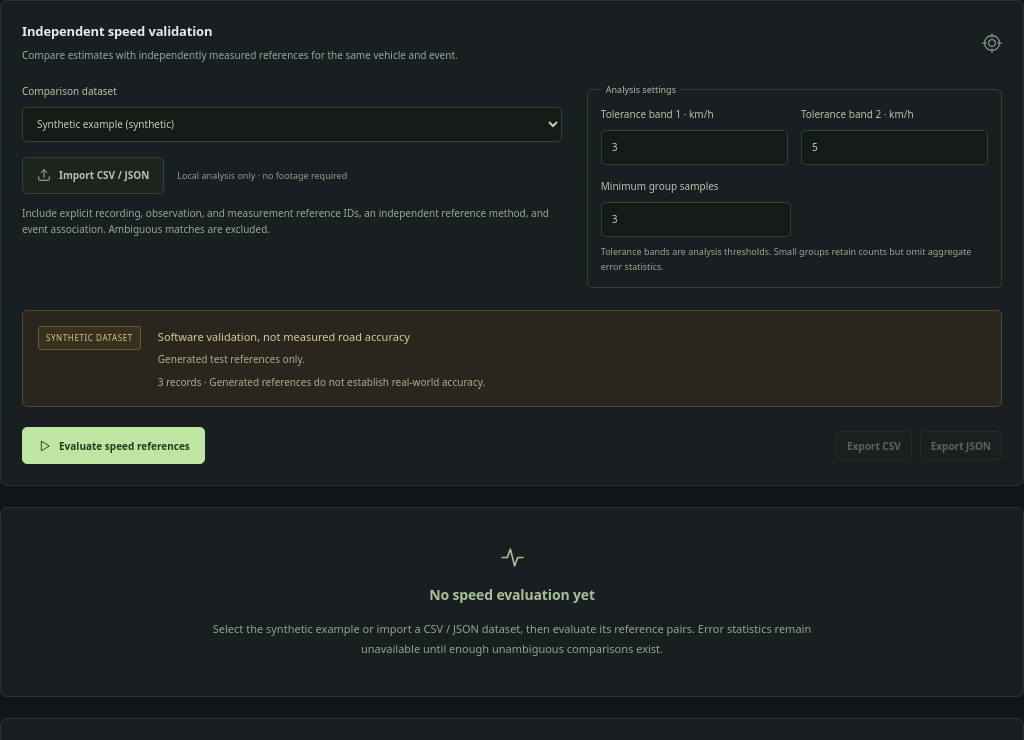
Test case: validation and benchmark workspace › evaluates explicit references and renders actual report counts, signed errors, and accessible charts
What coordinates should you click on to do the following:
click the button "Evaluate speed references"
I would click on:
 (113, 446)
Its box is x1=22 y1=427 x2=205 y2=464.
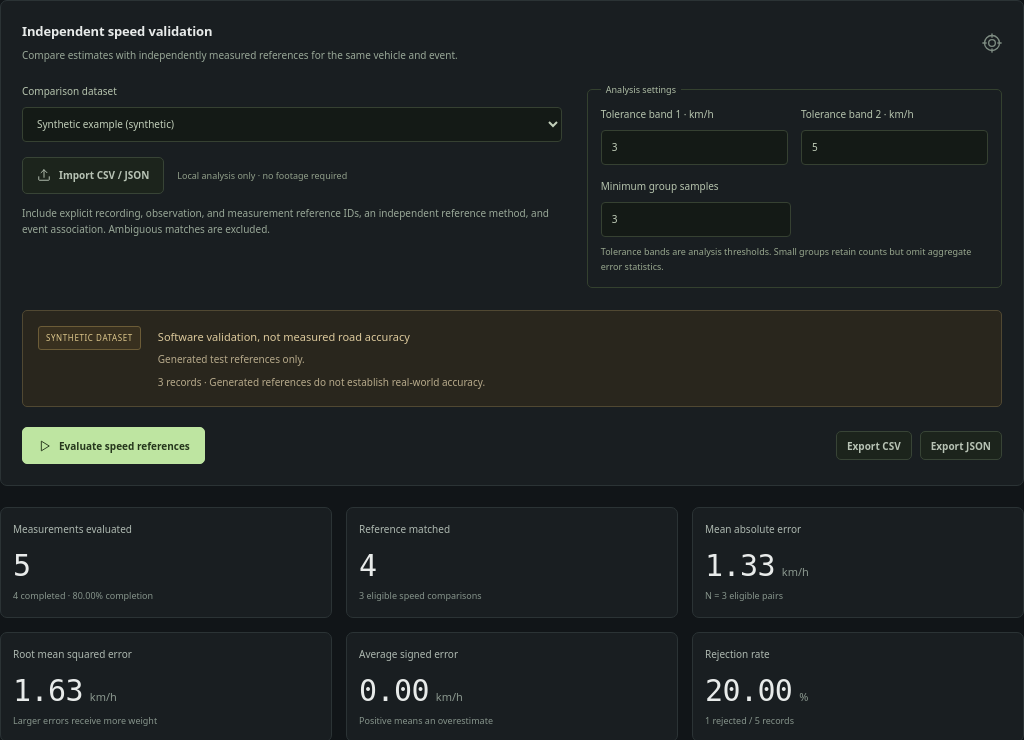
Now the text "20.00" is shown, box x1=705 y1=673 x2=792 y2=708
Now the text "3 eligible speed comparisons" is shown, box x1=359 y1=589 x2=482 y2=602
